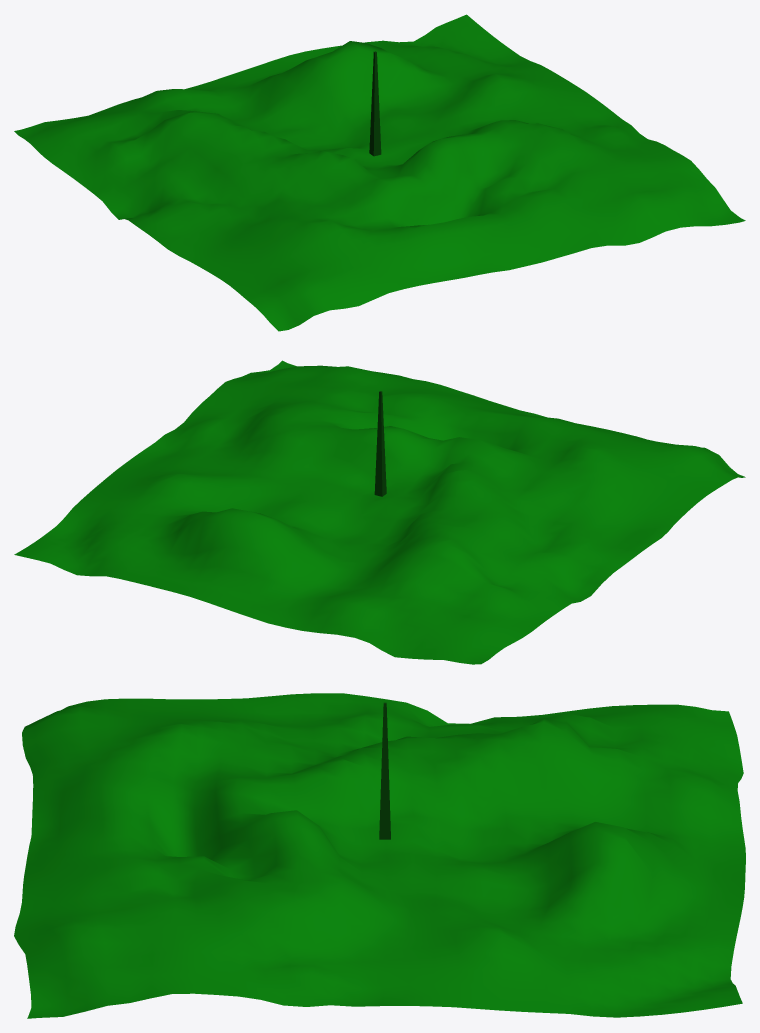
File: ground1.fbx
The picture shows the model from 3 angles, top to bottom: view 1: azimuth 30°, elevation 25°; view 2: azimuth 150°, elevation 25°; view 3: azimuth 270°, elevation 25°; orthographic projection. The views are drawn at different scales.
Parts seen in each view (by area): view 1: Plane-col, Cube; view 2: Plane-col, Cube; view 3: Plane-col, Cube.
Part boxes in pixels (<box>): Plane-col: <box>14,14,745,331</box>; Cube: <box>369,51,381,156</box>; Plane-col: <box>14,360,745,664</box>; Cube: <box>374,391,386,496</box>; Plane-col: <box>14,693,745,1018</box>; Cube: <box>379,702,390,839</box>.
Size of the model in its own units: 979 by 253 by 984.
